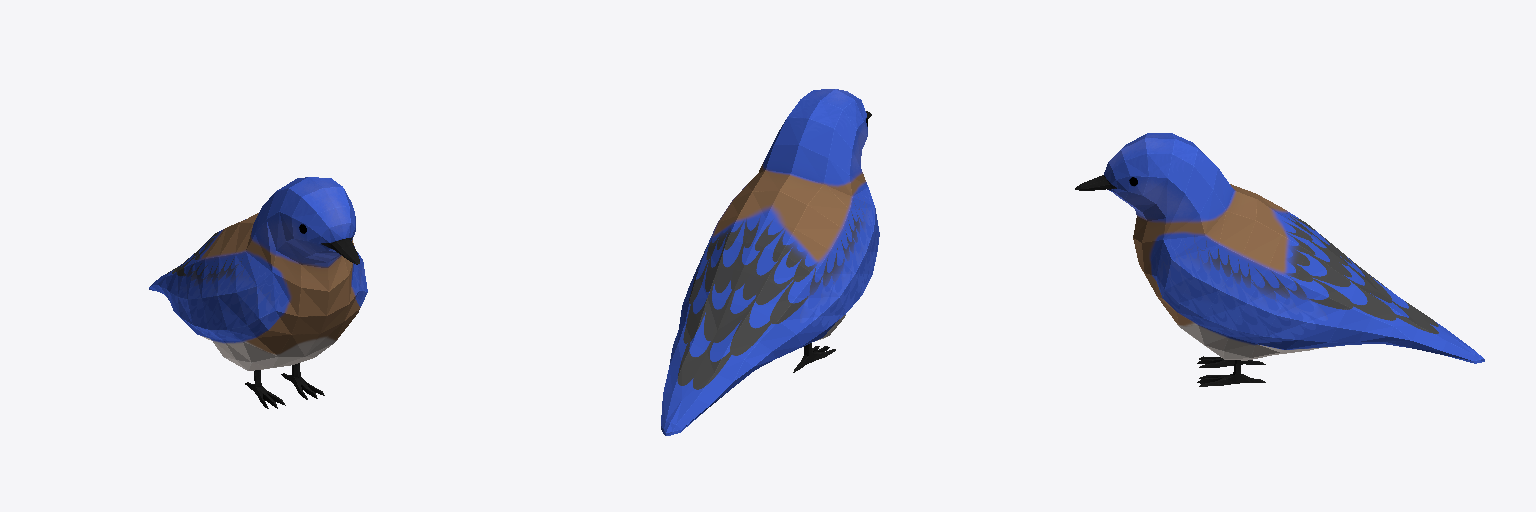
3 renders of one model, left to right at view 1: azimuth 30°, elevation 25°; view 2: azimuth 150°, elevation 25°; view 3: azimuth 270°, elevation 25°, orthographic.
Visible parts, largest first — view 1: WesternBluebird_Mesh; view 2: WesternBluebird_Mesh; view 3: WesternBluebird_Mesh.
Part boxes in pixels (bbox=[...]): WesternBluebird_Mesh: bbox=[149, 177, 367, 408]; WesternBluebird_Mesh: bbox=[661, 89, 879, 435]; WesternBluebird_Mesh: bbox=[1075, 133, 1484, 386].
Size of the model in its own units: 0.6694 by 1.06 by 1.67.
Materials: 1 (1 with a texture image).